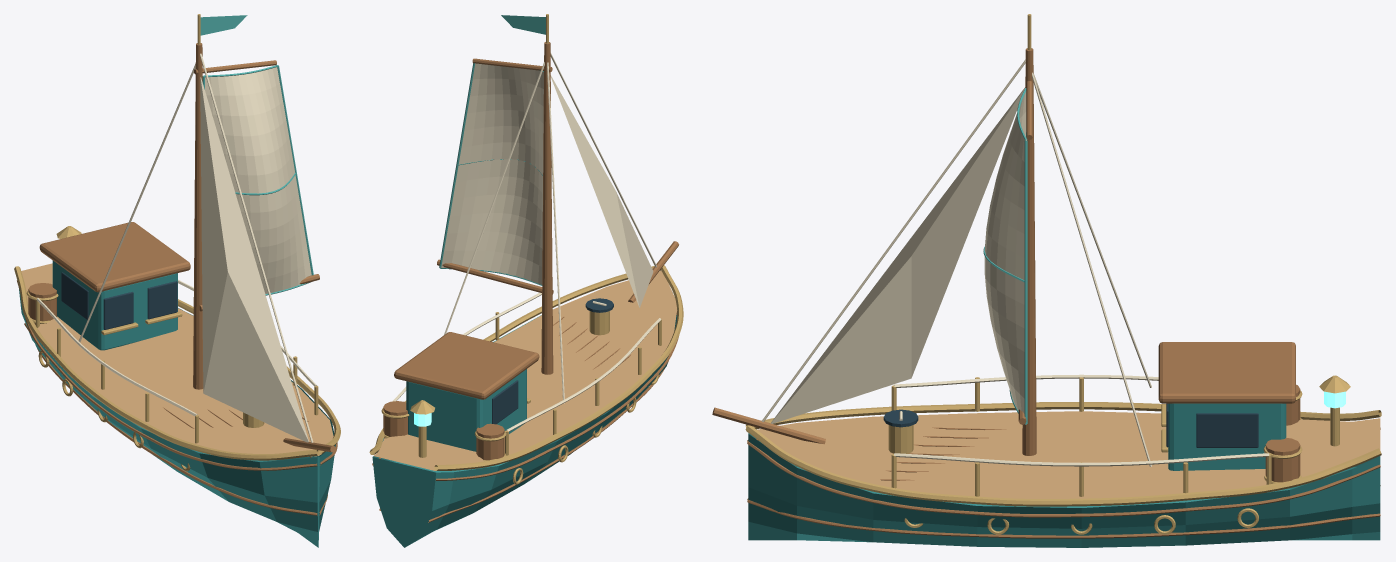
The model's file is research-vessel.glb.
The picture shows the model from 3 angles, left to right: view 1: azimuth 30°, elevation 25°; view 2: azimuth 150°, elevation 25°; view 3: azimuth 270°, elevation 25°; orthographic projection. The views are drawn at different scales.
Visible parts, largest first — view 1: Sail_jib, Static_Sunlit_deck, Static_Teal_painted_cedar, Sail_main_billowed, Static_Honey_cedar, Static_Aged_brass, Static_Sail_ivory, Static_Deep_indigo_recess, Static_Sail_turquoise_seam, Turquoise pennant; view 2: Sail_main_billowed, Static_Sunlit_deck, Static_Teal_painted_cedar, Static_Honey_cedar, Static_Aged_brass, Sail_jib, Static_Sail_ivory, Static_Deep_indigo_recess, Static_Sail_turquoise_seam, Turquoise pennant; view 3: Static_Teal_painted_cedar, Static_Sunlit_deck, Static_Honey_cedar, Sail_jib, Static_Aged_brass, Sail_main_billowed, Static_Sail_ivory, Static_Deep_indigo_recess, Static_Sail_turquoise_seam.
Boxes of the visible parts, <box> form: Sail_jib: <box>200,77,308,442</box>; Static_Sunlit_deck: <box>21,263,333,456</box>; Static_Teal_painted_cedar: <box>19,260,335,547</box>; Sail_main_billowed: <box>203,67,311,293</box>; Static_Honey_cedar: <box>17,43,337,515</box>; Static_Aged_brass: <box>14,14,340,471</box>; Static_Sail_ivory: <box>36,53,317,442</box>; Static_Deep_indigo_recess: <box>61,272,177,329</box>; Static_Sail_turquoise_seam: <box>202,65,313,295</box>; Turquoise pennant: <box>200,15,247,35</box>; Sail_main_billowed: <box>441,63,543,284</box>; Static_Sunlit_deck: <box>374,270,676,470</box>; Static_Teal_painted_cedar: <box>372,315,677,547</box>; Static_Honey_cedar: <box>372,42,678,522</box>; Static_Aged_brass: <box>369,14,683,484</box>; Sail_jib: <box>550,75,653,307</box>; Static_Sail_ivory: <box>392,53,661,431</box>; Static_Deep_indigo_recess: <box>492,298,613,424</box>; Static_Sail_turquoise_seam: <box>439,63,543,285</box>; Turquoise pennant: <box>501,15,545,34</box>; Static_Teal_painted_cedar: <box>748,403,1380,547</box>; Static_Sunlit_deck: <box>757,411,1380,498</box>; Static_Honey_cedar: <box>712,48,1380,538</box>; Sail_jib: <box>771,87,1025,423</box>; Static_Aged_brass: <box>745,14,1381,534</box>; Sail_main_billowed: <box>984,91,1026,413</box>; Static_Sail_ivory: <box>762,59,1269,466</box>; Static_Deep_indigo_recess: <box>883,403,1258,447</box>; Static_Sail_turquoise_seam: <box>983,88,1027,424</box>.
Size of the model in its own units: 3.99 by 8.35 by 9.64.
